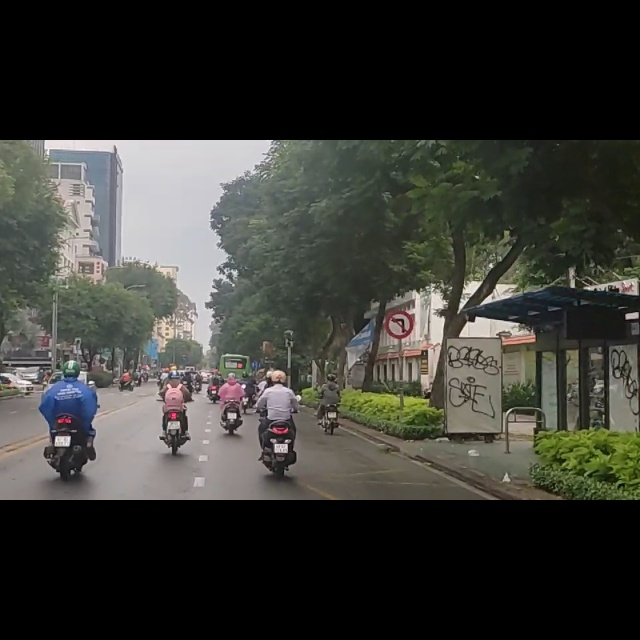bien_hieu_lenh: (386, 306, 413, 351)
